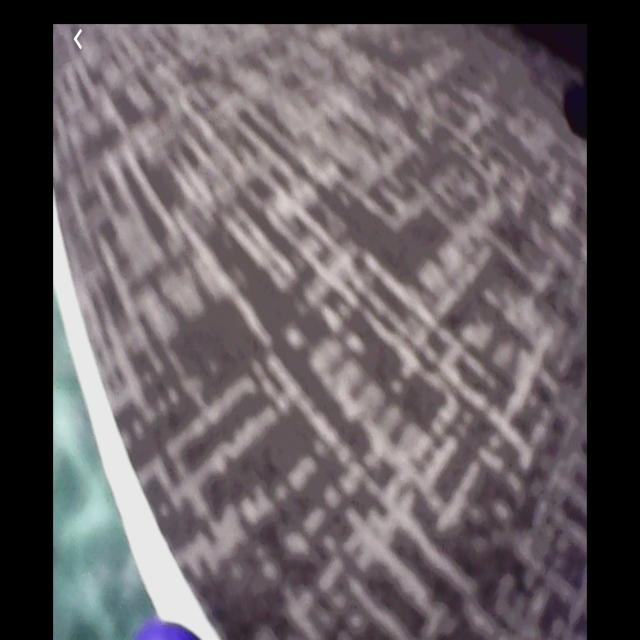ball: (131, 621, 205, 640)
